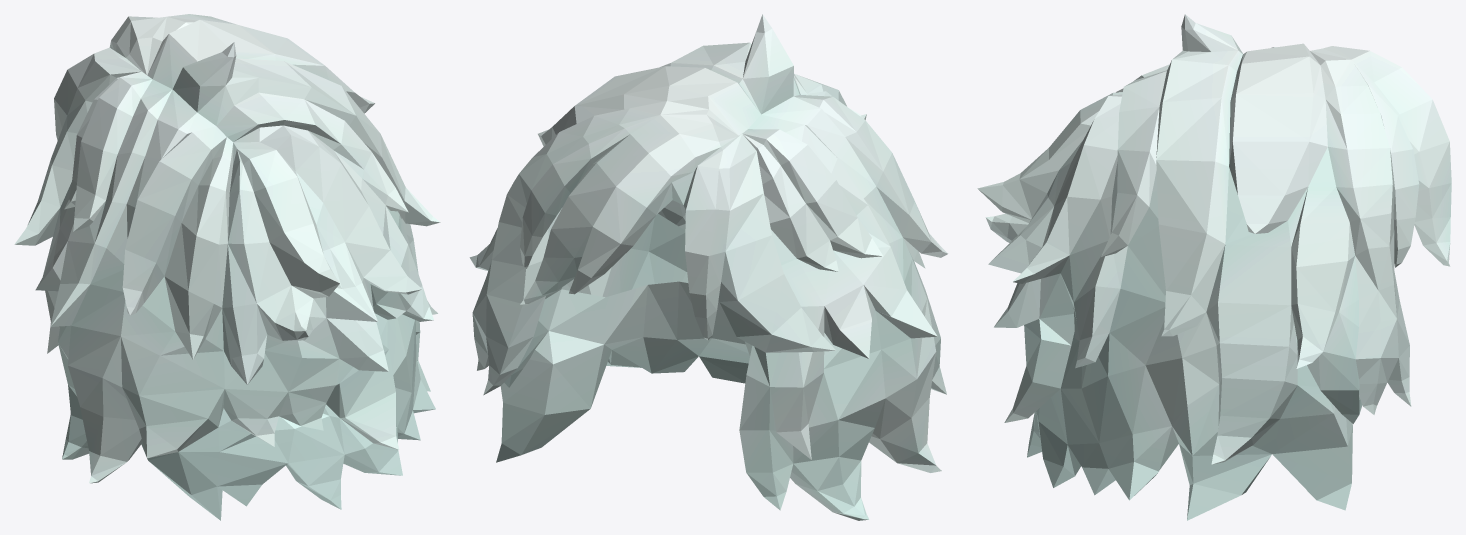
File: CharSkyKid_Hair_AP20MaypoleNoRibbons.glb
3 renders of one model, left to right at view 1: azimuth 30°, elevation 25°; view 2: azimuth 150°, elevation 25°; view 3: azimuth 270°, elevation 25°, orthographic. The views are drawn at different scales.
Visible parts, largest first — view 1: CharSkyKid_Hair_AP20MaypoleNoRibbons; view 2: CharSkyKid_Hair_AP20MaypoleNoRibbons; view 3: CharSkyKid_Hair_AP20MaypoleNoRibbons.
Boxes of the visible parts, bbox=[...] form: CharSkyKid_Hair_AP20MaypoleNoRibbons: bbox=[14, 14, 440, 520]; CharSkyKid_Hair_AP20MaypoleNoRibbons: bbox=[469, 14, 947, 520]; CharSkyKid_Hair_AP20MaypoleNoRibbons: bbox=[977, 14, 1451, 520].
Size of the model in its own units: 3.89 by 3.98 by 3.98.
Materials: 1 (1 with a texture image).
